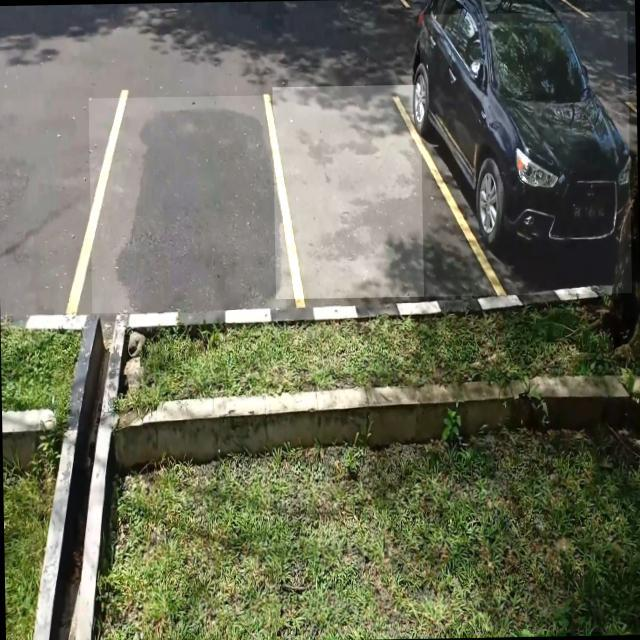empty: (88, 95, 286, 313), (272, 84, 442, 299)
occupied: (418, 11, 632, 296)
